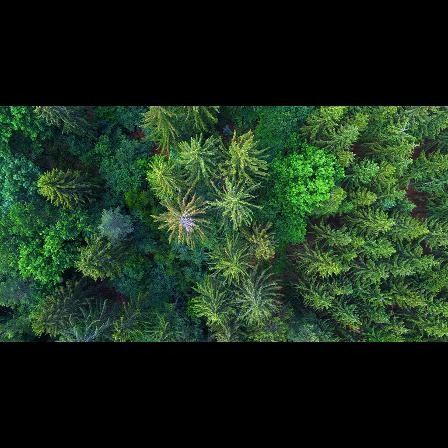Sick: (161, 200, 204, 239)
